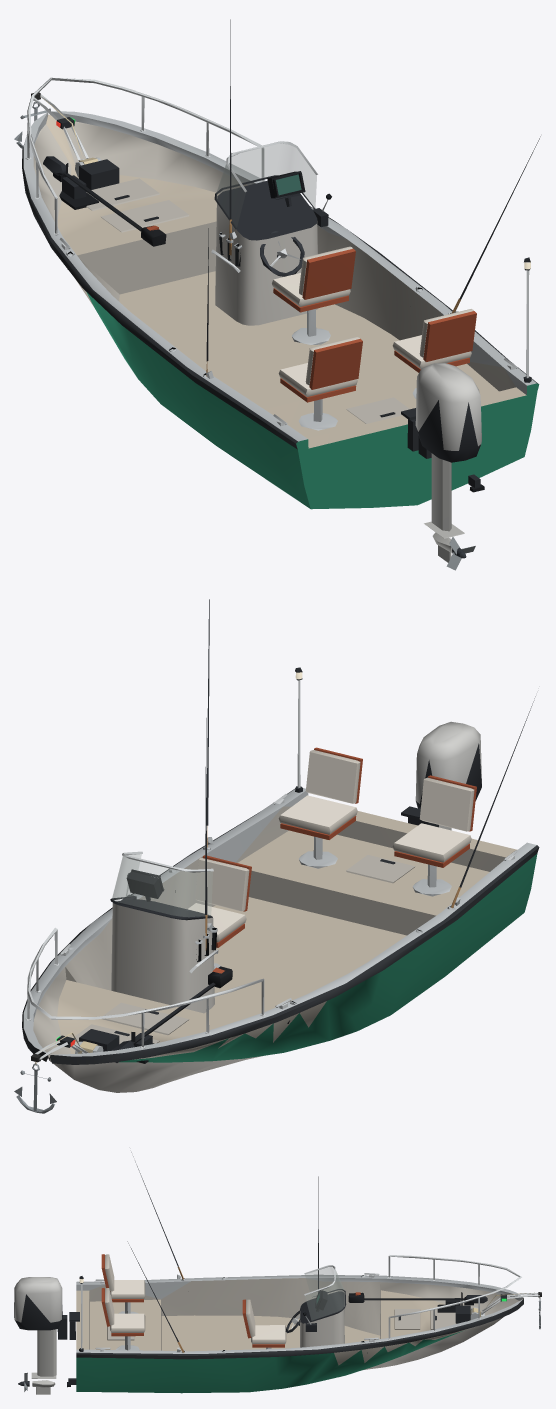
Rendered from albakor_lod1.glb.
3 views of the same model, one above another, from view 1: azimuth 30°, elevation 25°; view 2: azimuth 150°, elevation 25°; view 3: azimuth 270°, elevation 25° (orthographic). The views are drawn at different scales.
Visible parts, largest first — view 1: albakor_body, motor, rods; view 2: albakor_body, motor, rods; view 3: albakor_body, motor, rods.
Part boxes in pixels (left/top/right/bottom): albakor_body: left=22, top=77, right=539, bottom=509; motor: left=415, top=362, right=481, bottom=562; rods: left=206, top=19, right=540, bottom=378; albakor_body: left=22, top=667, right=539, bottom=1092; motor: left=415, top=721, right=481, bottom=830; rods: left=205, top=599, right=535, bottom=950; albakor_body: left=67, top=1254, right=541, bottom=1393; motor: left=14, top=1277, right=67, bottom=1394; rods: left=127, top=1152, right=318, bottom=1352.
Bounding box in the file's own units: 2.92 × 3.16 × 6.6.
